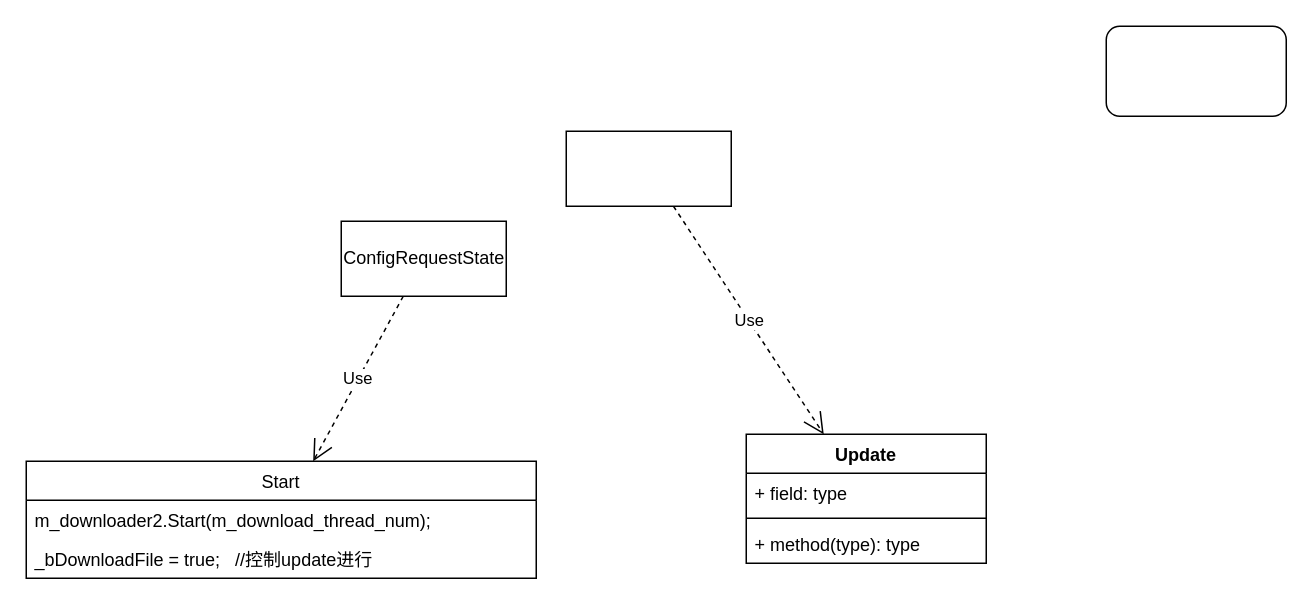
Image size: 1313x609. Some labels were removed from this diagram. Here are the shapes that lost their labels. From the top down, the centre of each, then its label:
(1195,70): ResService//单体
(648,168): xClientProxy
